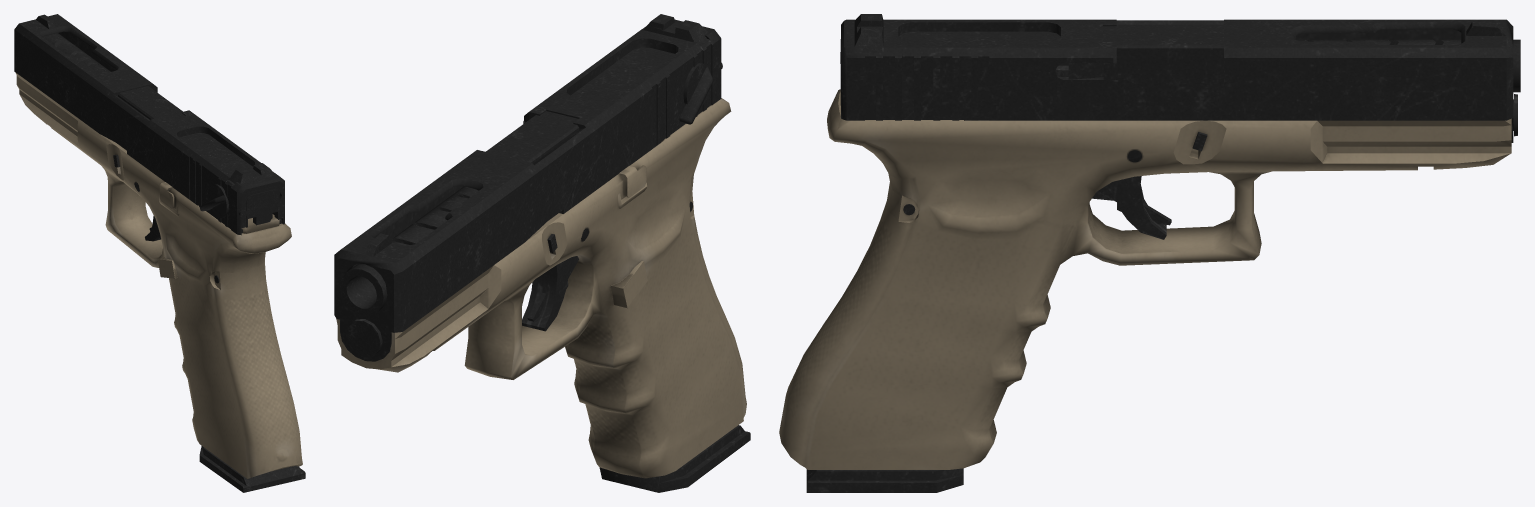
Rendered from Pistol_7.FBX.
3 views of the same model, side by side, from view 1: azimuth 30°, elevation 25°; view 2: azimuth 150°, elevation 25°; view 3: azimuth 270°, elevation 25° (orthographic). The views are drawn at different scales.
Parts seen in each view (by area): view 1: Body, Shutter, Magazine; view 2: Body, Shutter, Magazine, Trigger; view 3: Body, Shutter, Magazine, Trigger.
Boxes of the visible parts, left/top/right/bottom form: Body: left=15, top=33, right=302, bottom=478; Shutter: left=14, top=14, right=284, bottom=235; Magazine: left=189, top=199, right=305, bottom=492; Body: left=336, top=98, right=746, bottom=478; Shutter: left=334, top=14, right=722, bottom=361; Magazine: left=599, top=145, right=750, bottom=492; Trigger: left=522, top=256, right=578, bottom=331; Body: left=779, top=39, right=1520, bottom=469; Shutter: left=840, top=14, right=1517, bottom=142; Magazine: left=806, top=120, right=989, bottom=492; Trigger: left=1092, top=176, right=1171, bottom=239.
Size of the model in its own units: 2.71 by 12.35 by 18.58.
